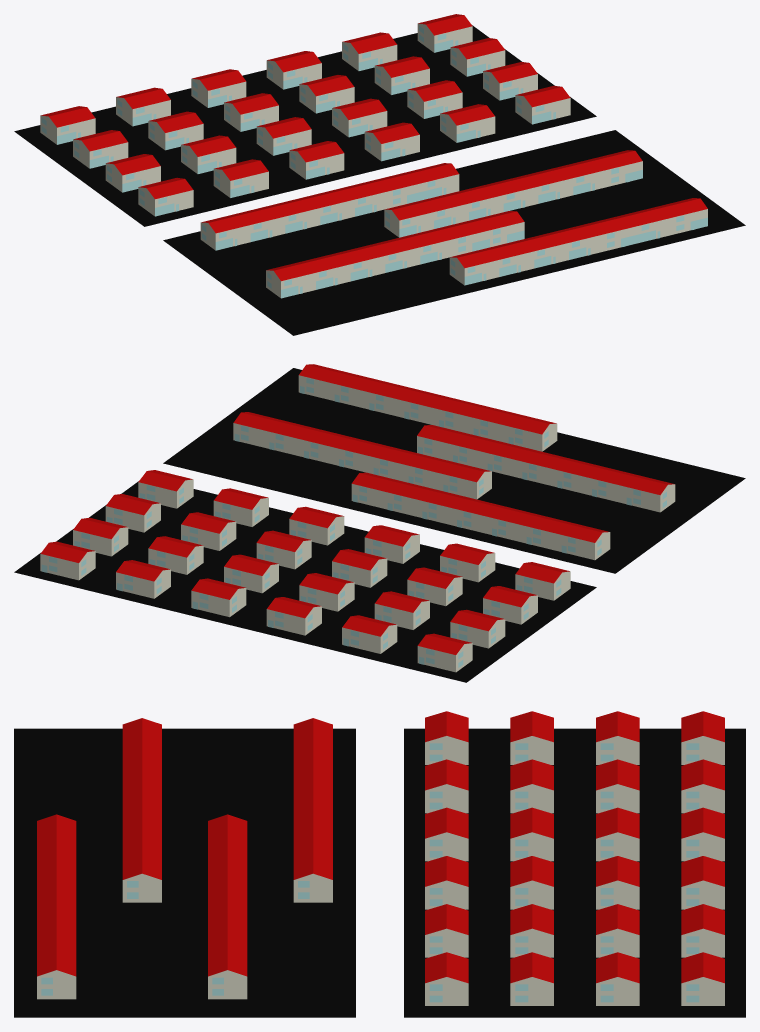
3 views of the same model, one above another, from view 1: azimuth 30°, elevation 25°; view 2: azimuth 150°, elevation 25°; view 3: azimuth 270°, elevation 25° (orthographic). The views are drawn at different scales.
Visible parts, largest first — view 1: Ground, Walls, Roofs, Windows; view 2: Ground, Walls, Roofs, Windows; view 3: Ground, Roofs, Walls, Windows.
Part boxes in pixels (bbox=[...]): Ground: bbox=[14, 25, 745, 335]; Walls: bbox=[40, 23, 707, 297]; Roofs: bbox=[41, 14, 707, 281]; Windows: bbox=[41, 26, 707, 298]; Ground: bbox=[14, 368, 745, 682]; Walls: bbox=[40, 375, 675, 672]; Roofs: bbox=[40, 364, 674, 654]; Windows: bbox=[41, 378, 666, 667]; Ground: bbox=[14, 728, 745, 1017]; Roofs: bbox=[37, 711, 724, 983]; Walls: bbox=[37, 736, 724, 1005]; Windows: bbox=[41, 743, 699, 1002].
Bounding box in the file's own units: 142 × 6.7 × 152.
